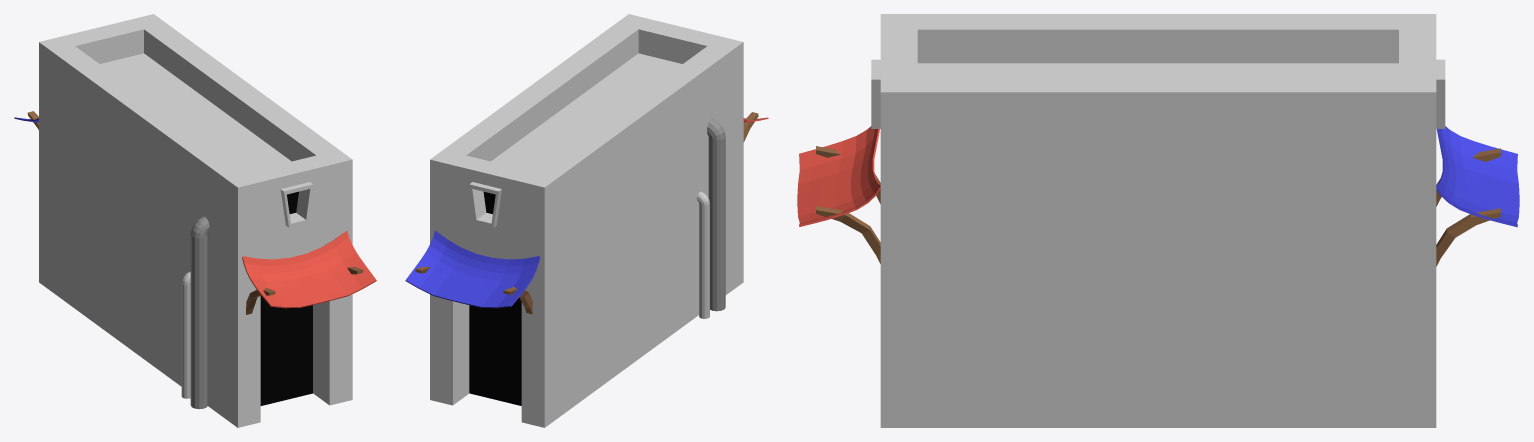
File: Building1.fbx
The picture shows the model from 3 angles, left to right: view 1: azimuth 30°, elevation 25°; view 2: azimuth 150°, elevation 25°; view 3: azimuth 270°, elevation 25°; orthographic projection. The views are drawn at different scales.
Parts seen in each view (by area): view 1: Main1, Awning1.001, Pipes1; view 2: Main1, Awning1.000, Pipes1; view 3: Main1, Awning1.000, Awning1.001.
Boxes of the visible parts, left/top/right/bottom form: Main1: left=39, top=14, right=352, bottom=427; Awning1.001: left=242, top=231, right=376, bottom=314; Pipes1: left=181, top=216, right=209, bottom=409; Main1: left=430, top=14, right=743, bottom=427; Awning1.000: left=405, top=230, right=539, bottom=314; Pipes1: left=696, top=118, right=725, bottom=318; Main1: left=871, top=14, right=1445, bottom=427; Awning1.000: left=1436, top=126, right=1519, bottom=266; Awning1.001: left=797, top=126, right=880, bottom=263.
Bounding box in the file's own units: 112 × 200 × 390.
